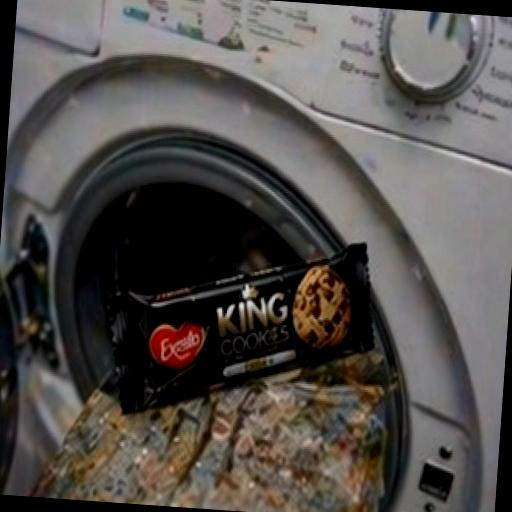king_cooking: (82, 192, 402, 442)
